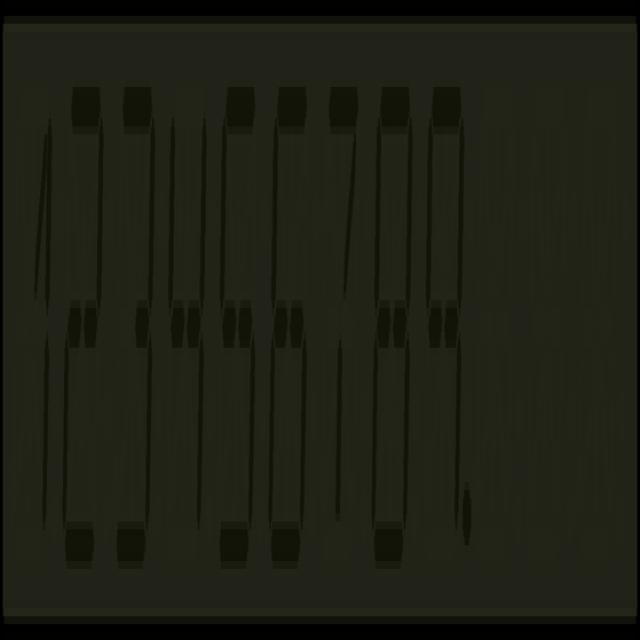.: (462, 471, 473, 569)
1: (29, 98, 55, 550)
2: (60, 54, 106, 588)
3: (116, 54, 156, 582)
4: (163, 66, 211, 556)
5: (217, 51, 260, 582)
6: (266, 63, 310, 591)
7: (324, 51, 359, 546)
8: (370, 72, 413, 566)
9: (424, 57, 466, 550)
